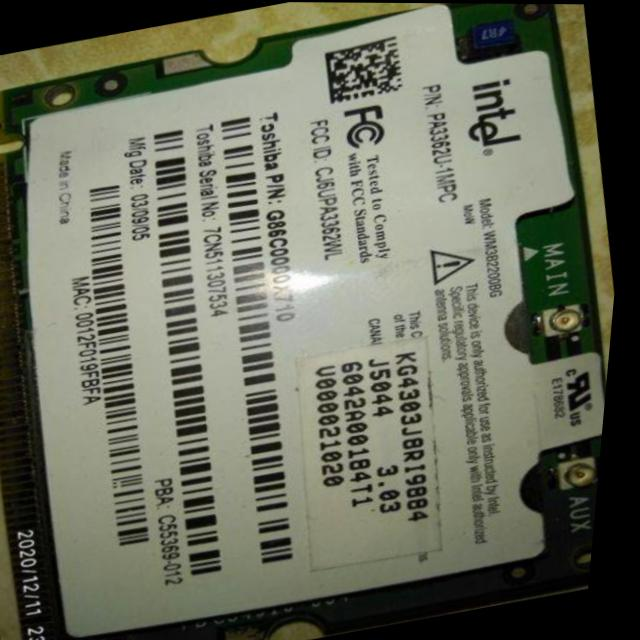datamatrix: (321, 35, 409, 106)
